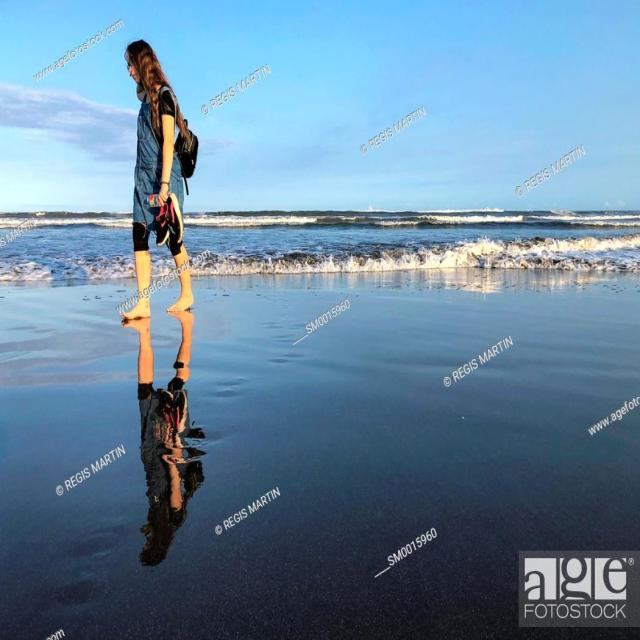Person: (120, 41, 198, 321)
